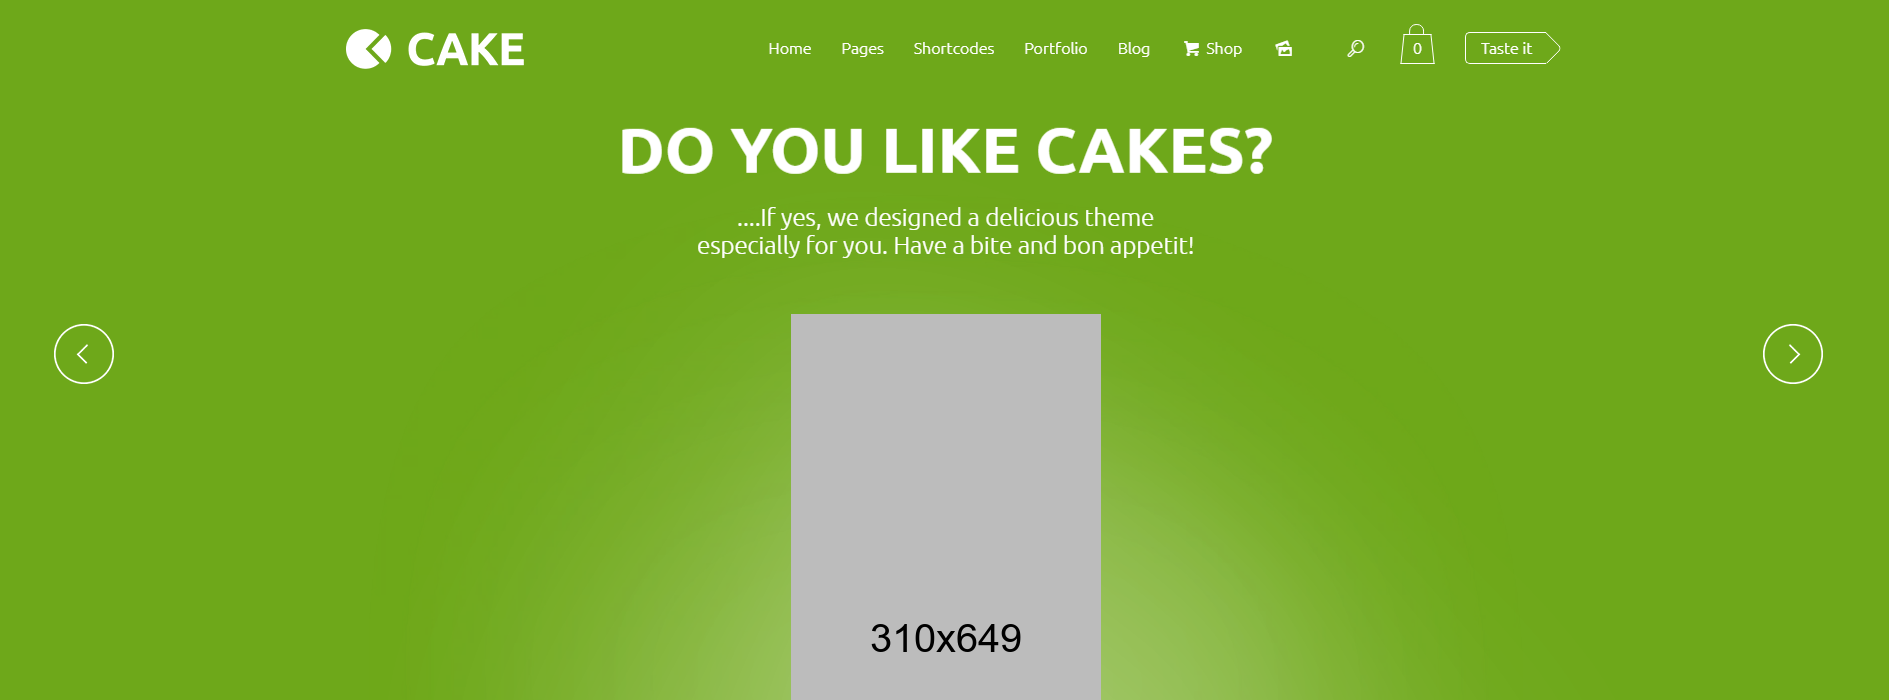menu-bar: (33, 14, 1876, 131)
